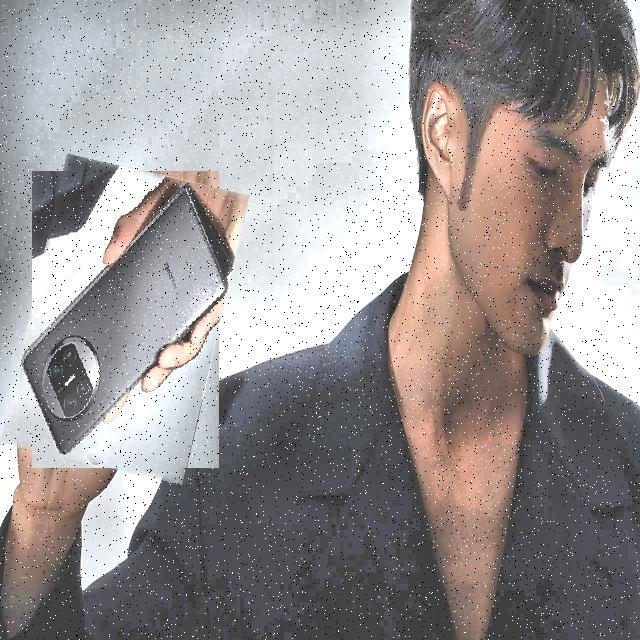Phone: (16, 162, 235, 477)
